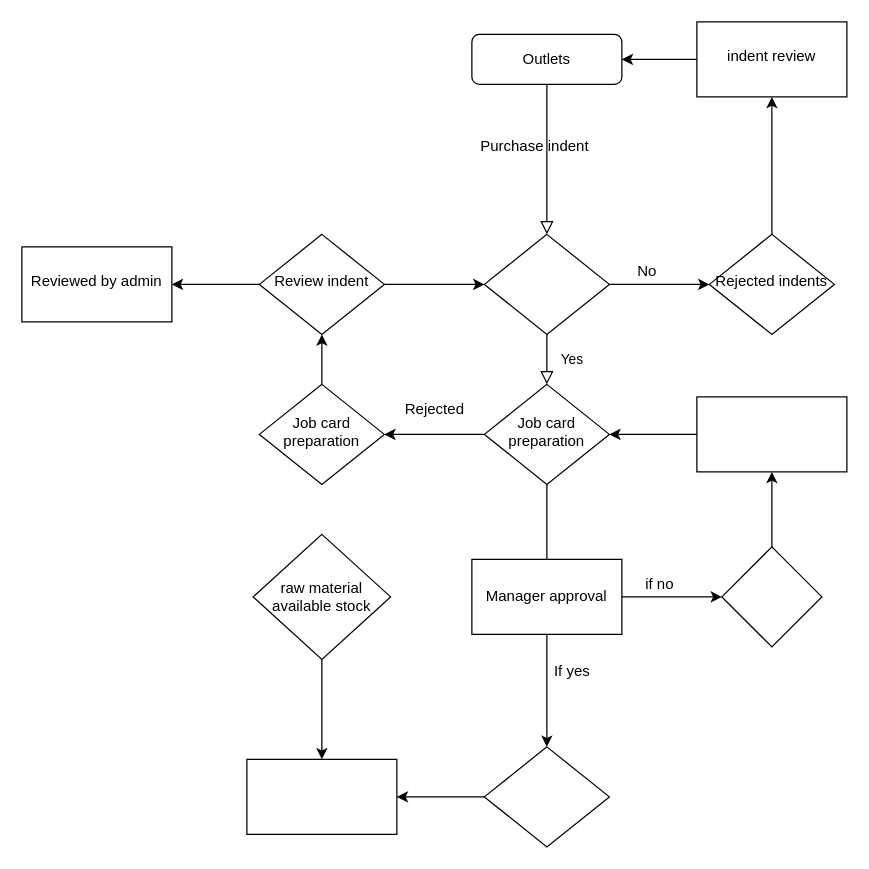
This 869x869 diagram has some shape labels left out. The centre of each missing label's shape, as x and y in pixels:
All indents: the point at 546,283
Floor stock inventory: the point at 321,796
In review by admin: the point at 771,596
Job card assignee: the point at 546,796
Job card created by supervisour: the point at 771,434
